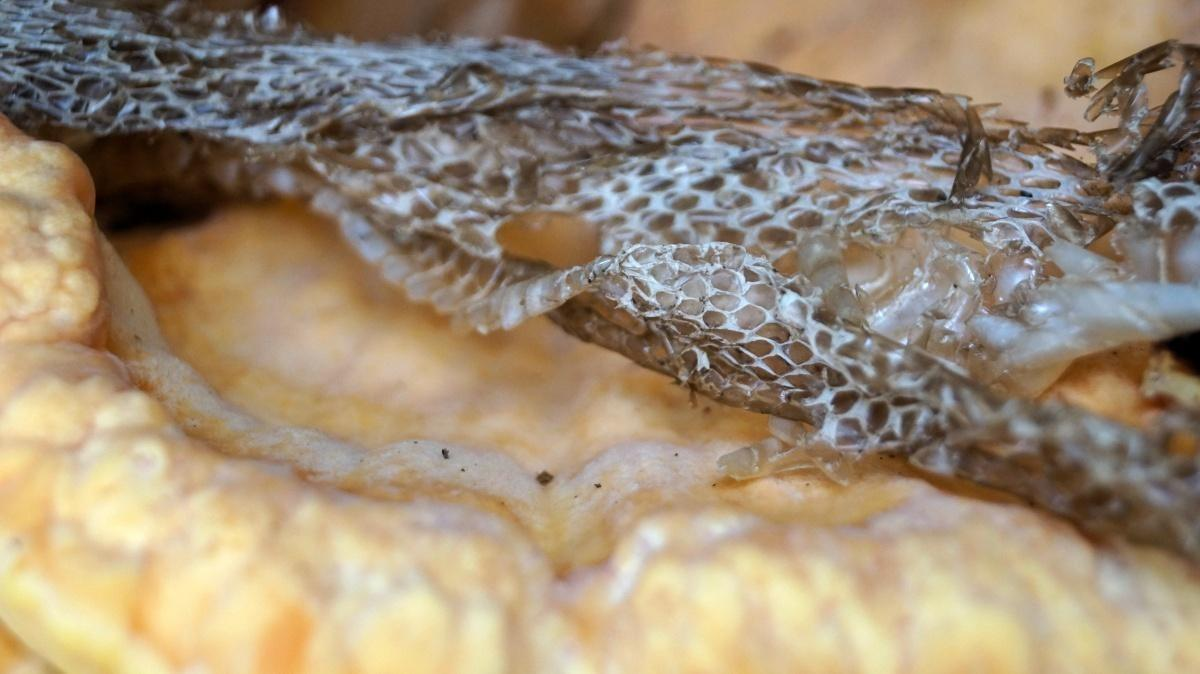Sulphur-yellow tinder fungus: (0, 125, 1199, 673)
